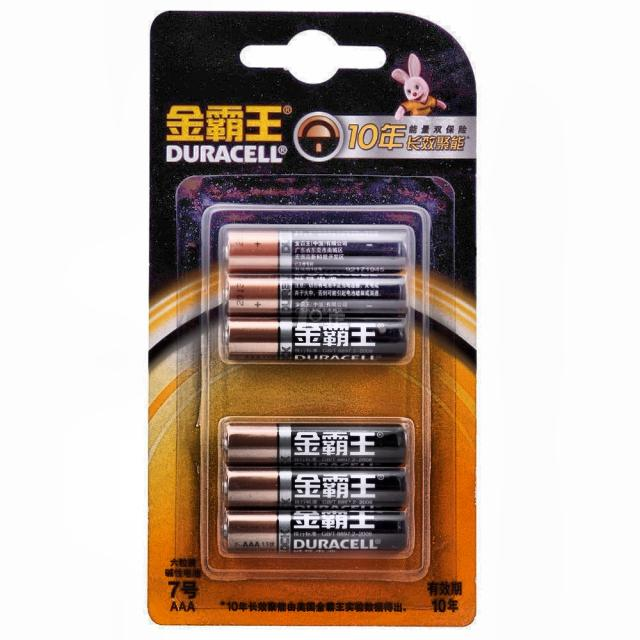Non-Valuable Waste - Batteries: (220, 418, 420, 558), (221, 225, 414, 361)
